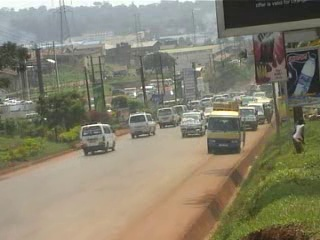Car: (201, 102, 213, 122)
